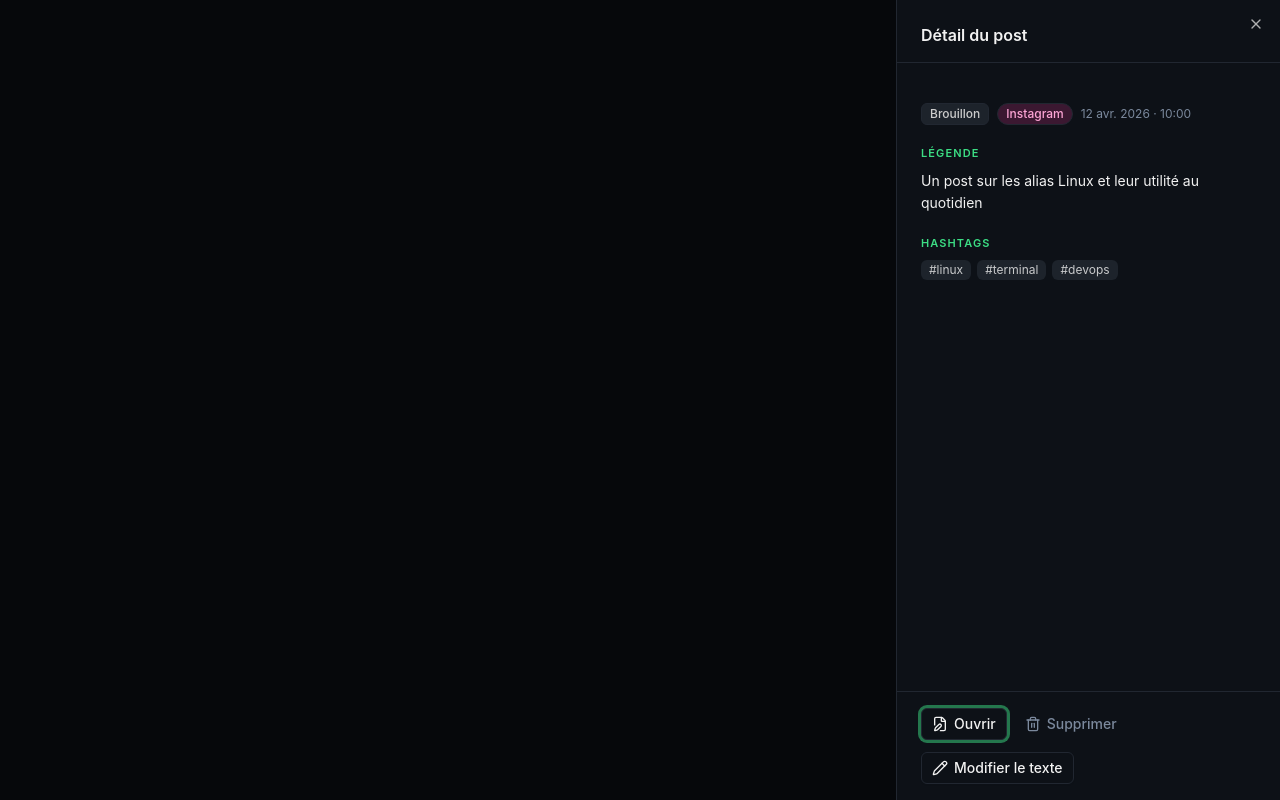
Test case: PostDetailSheet — édition (brouillon) › Modifier → affiche le textarea avec la caption actuelle
The image size is (1280, 800).
What coordinates should you click on to do the following:
click the button "Modifier le texte"
I would click on:
 (997, 768)
Its box is x1=921 y1=752 x2=1074 y2=784.
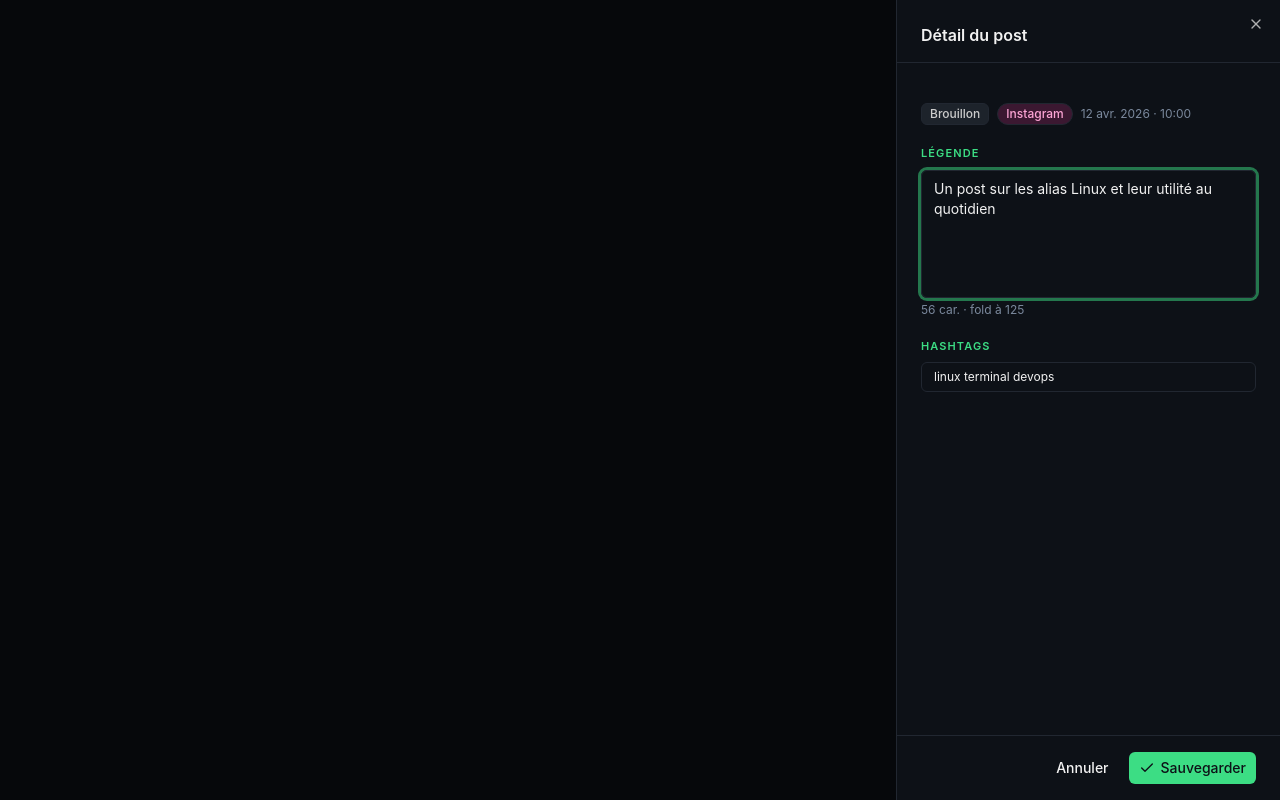
Check: the text box holds "Un post sur les alias Linux et leur utilité au quotidien", box x1=921 y1=170 x2=1256 y2=298
